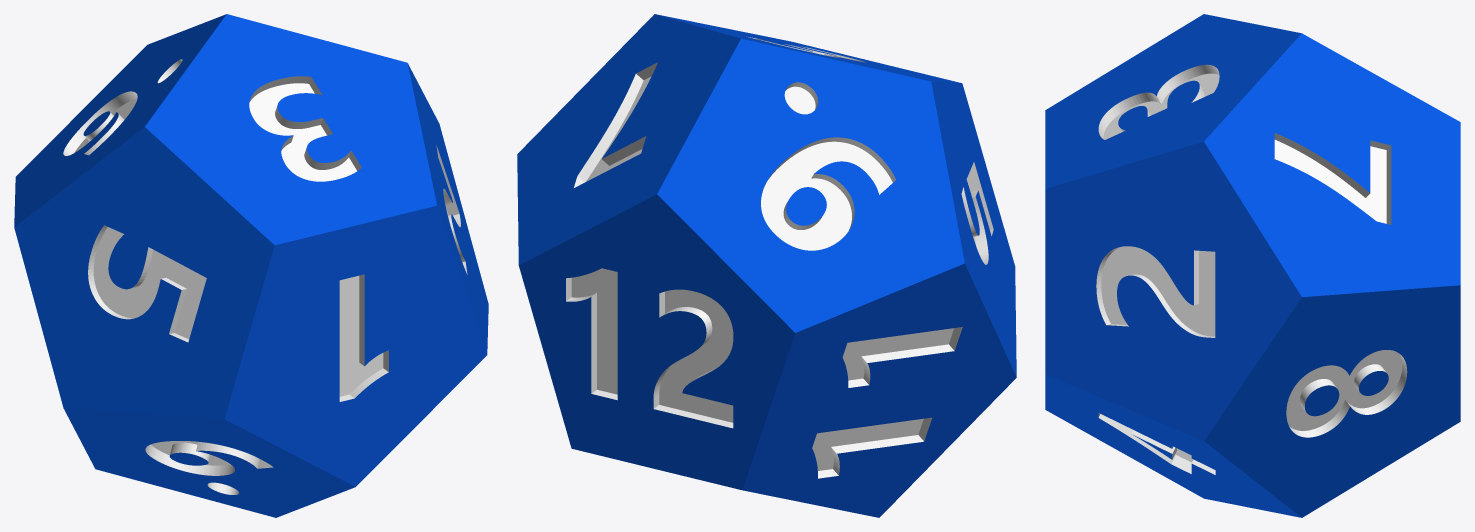
3 renders of one model, left to right at view 1: azimuth 30°, elevation 25°; view 2: azimuth 150°, elevation 25°; view 3: azimuth 270°, elevation 25°, orthographic. The views are drawn at different scales.
Visible parts, largest first — view 1: d12; view 2: d12; view 3: d12.
Part boxes in pixels (x1,y1,x2,y2): d12: [14, 14, 488, 517]; d12: [517, 14, 1016, 517]; d12: [1045, 14, 1460, 517].
Bounding box in the file's own units: 2.25 × 2.37 × 1.91.
1 material, 1 textured.
